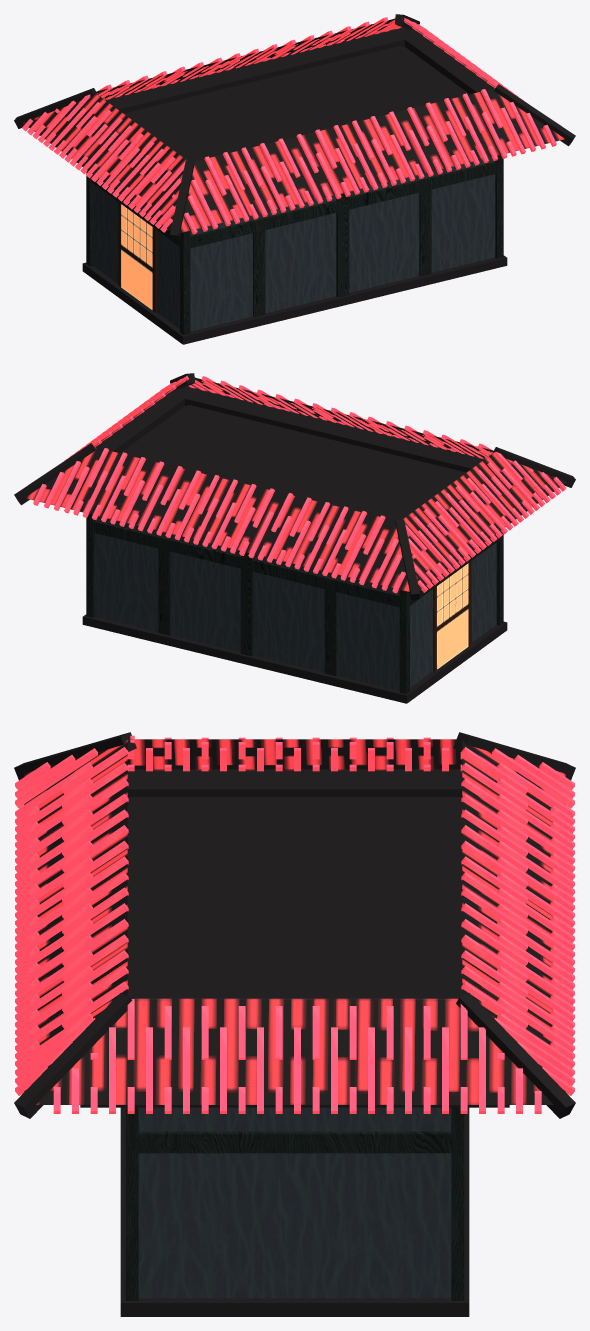
Rendered from S1_Minka_Hanyane.fbx.
3 renders of one model, top to bottom at view 1: azimuth 30°, elevation 25°; view 2: azimuth 150°, elevation 25°; view 3: azimuth 270°, elevation 25°, orthographic. The views are drawn at different scales.
Parts seen in each view (by area): view 1: Base, Kawara, Mado; view 2: Base, Kawara, Mado; view 3: Base, Kawara.
Boxes of the visible parts, bbox=[...] form: Base: bbox=[14, 14, 575, 344]; Kawara: bbox=[22, 17, 556, 234]; Mado: bbox=[118, 202, 156, 312]; Base: bbox=[14, 373, 575, 703]; Kawara: bbox=[33, 376, 566, 593]; Mado: bbox=[433, 561, 471, 671]; Base: bbox=[14, 732, 575, 1316]; Kawara: bbox=[15, 735, 574, 1113].
Size of the model in its own units: 1575 by 671 by 1086.
